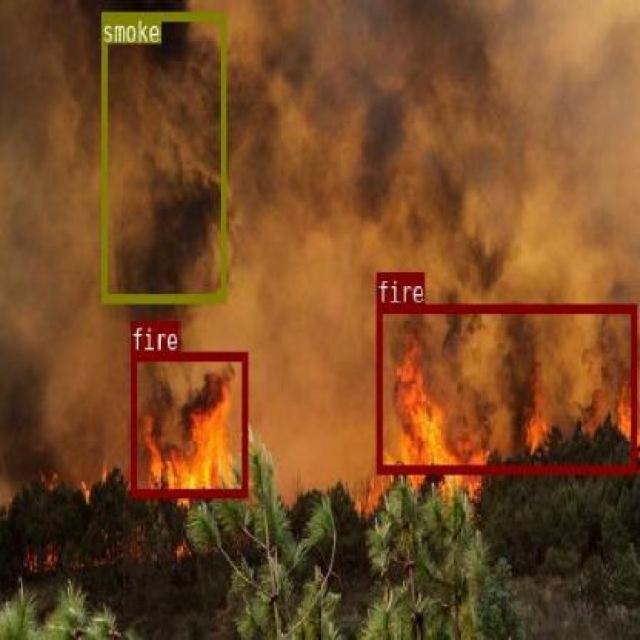fire: (376, 303, 636, 472), (130, 352, 247, 496)
smoke: (101, 9, 225, 302)
